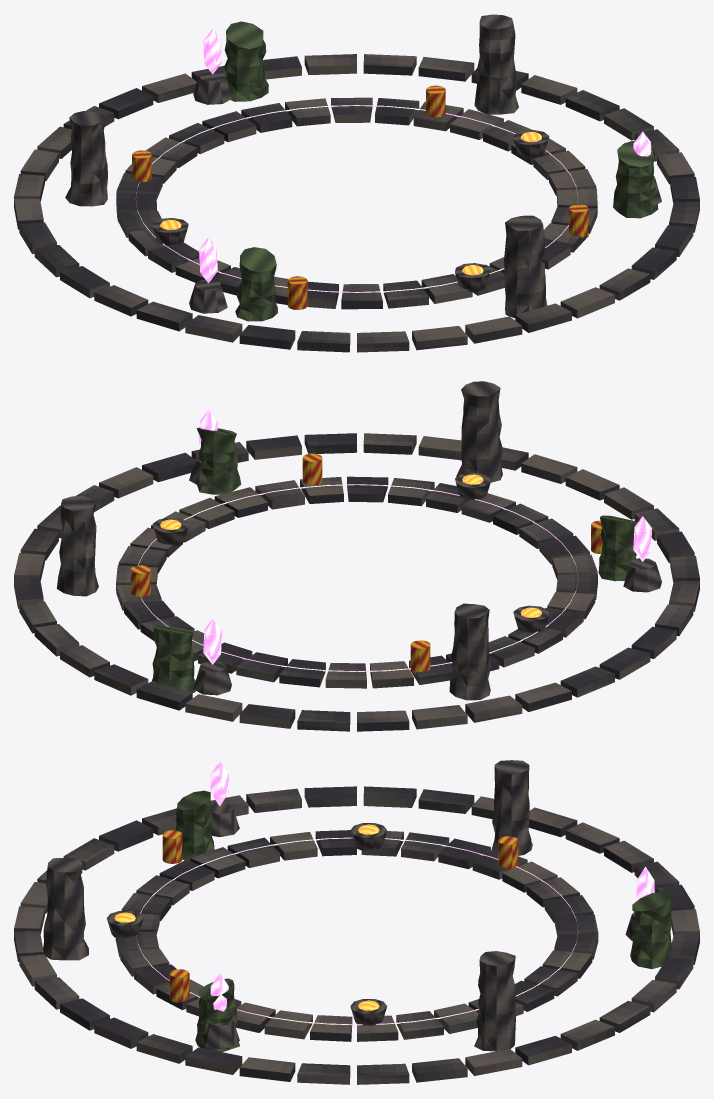
The model's file is boss_arena_shore.glb.
3 views of the same model, one above another, from view 1: azimuth 30°, elevation 25°; view 2: azimuth 150°, elevation 25°; view 3: azimuth 270°, elevation 25° (orthographic).
Visible parts, largest first — view 1: Arena_RitualStones, ArenaPillar_4, ArenaPillar_0, ArenaPillar_2, ArenaPillar_1, ArenaPillar_5, ArenaPillar_3, Arena_RuneCircle, AuraPedestal_0, AuraPedestal_1, ArenaBrazier_2, ArenaBrazier_0 (+7 smaller); view 2: Arena_RitualStones, ArenaPillar_4, ArenaPillar_0, ArenaPillar_2, ArenaPillar_1, ArenaPillar_3, ArenaPillar_5, Arena_RuneCircle, AuraPedestal_0, AuraPedestal_1, ArenaBrazier_2, ArenaBrazier_0 (+6 smaller); view 3: Arena_RitualStones, ArenaPillar_4, ArenaPillar_0, ArenaPillar_2, ArenaPillar_1, ArenaPillar_5, ArenaPillar_3, Arena_RuneCircle, AuraPedestal_2, AuraPedestal_1, ArenaBrazier_1, ExplosiveBarrel_2 (+5 smaller).
Part boxes in pixels (bbox=[...]): Arena_RitualStones: bbox=[14, 54, 699, 352]; ArenaPillar_4: bbox=[504, 215, 547, 317]; ArenaPillar_0: bbox=[474, 14, 518, 114]; ArenaPillar_2: bbox=[65, 111, 107, 206]; ArenaPillar_1: bbox=[224, 21, 268, 101]; ArenaPillar_5: bbox=[235, 247, 277, 321]; ArenaPillar_3: bbox=[613, 141, 658, 218]; Arena_RuneCircle: bbox=[136, 105, 577, 292]; AuraPedestal_0: bbox=[193, 70, 231, 104]; AuraPedestal_1: bbox=[189, 279, 227, 313]; ArenaBrazier_2: bbox=[513, 130, 549, 158]; ArenaBrazier_0: bbox=[455, 263, 490, 291]; Arena_RitualStones: bbox=[14, 433, 699, 731]; ArenaPillar_4: bbox=[456, 381, 503, 482]; ArenaPillar_0: bbox=[56, 495, 98, 596]; ArenaPillar_2: bbox=[449, 603, 490, 700]; ArenaPillar_1: bbox=[152, 626, 195, 692]; ArenaPillar_3: bbox=[196, 427, 241, 494]; ArenaPillar_5: bbox=[598, 515, 637, 581]; Arena_RuneCircle: bbox=[138, 484, 578, 672]; AuraPedestal_0: bbox=[193, 661, 231, 695]; AuraPedestal_1: bbox=[623, 558, 661, 592]; ArenaBrazier_2: bbox=[153, 517, 188, 546]; ArenaBrazier_0: bbox=[455, 472, 490, 500]; Arena_RitualStones: bbox=[14, 786, 699, 1084]; ArenaPillar_4: bbox=[43, 857, 88, 960]; ArenaPillar_0: bbox=[474, 951, 515, 1051]; ArenaPillar_2: bbox=[491, 760, 532, 855]; ArenaPillar_1: bbox=[630, 891, 672, 968]; ArenaPillar_5: bbox=[175, 790, 214, 860]; ArenaPillar_3: bbox=[195, 978, 239, 1052]; Arena_RuneCircle: bbox=[136, 837, 578, 1025]; AuraPedestal_2: bbox=[200, 1020, 239, 1048]; AuraPedestal_1: bbox=[210, 803, 239, 836]; ArenaBrazier_1: bbox=[350, 823, 386, 851]; ExplosiveBarrel_2: bbox=[162, 830, 182, 863].
Size of what is drawn, in the model's own units: 29 by 4.05 by 29.
Materials: 6 (6 with a texture image).
